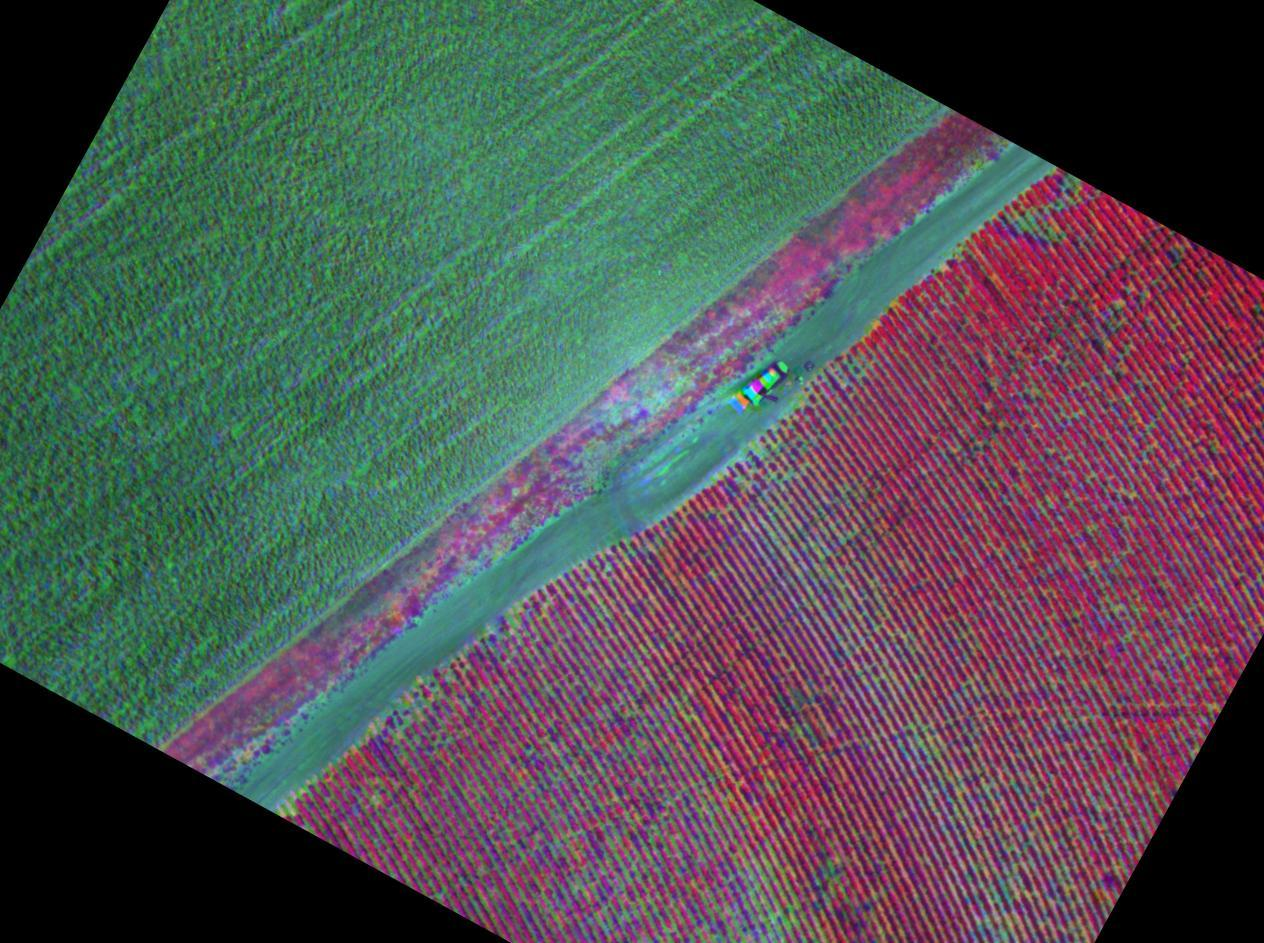dc: (935, 748, 939, 755), (770, 914, 775, 919), (509, 623, 515, 627), (875, 677, 879, 683), (576, 880, 580, 885)
